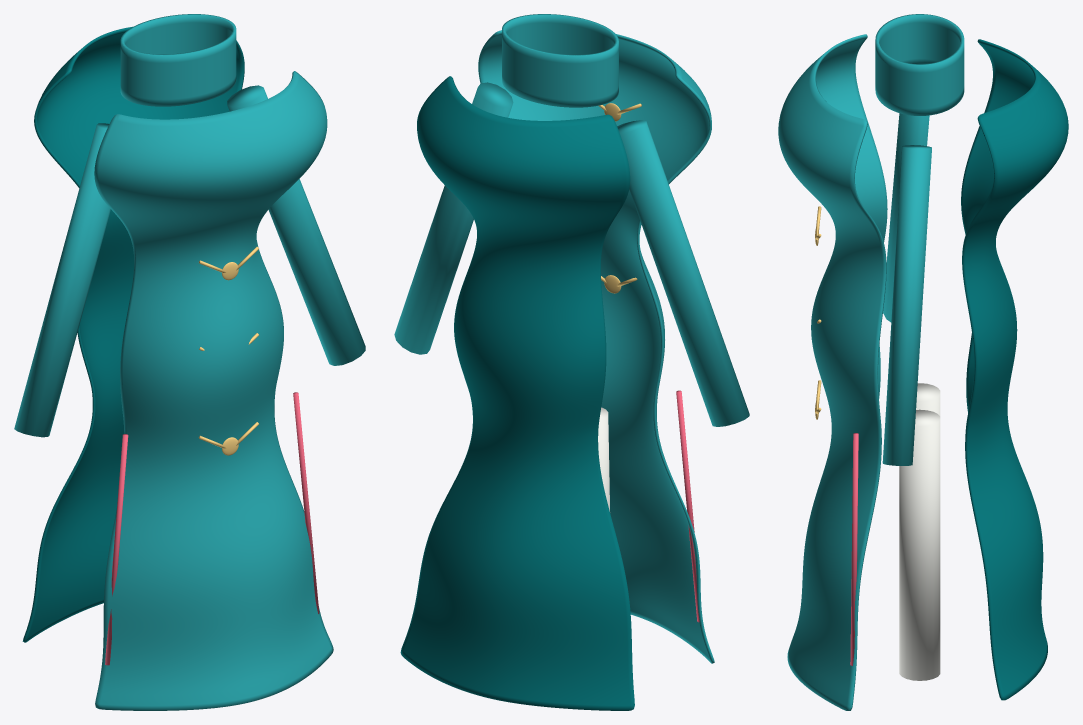
The model's file is BL_AODAI_001.glb.
3 views of the same model, side by side, from view 1: azimuth 30°, elevation 25°; view 2: azimuth 150°, elevation 25°; view 3: azimuth 270°, elevation 25° (orthographic).
Visible parts, largest first — view 1: front ao dai panel, back ao dai panel, silk sleeve, structured high collar, silk sleeve.001, side slit piping, side slit piping.002; view 2: back ao dai panel, front ao dai panel, silk sleeve, structured high collar, silk sleeve.001, side slit piping, ivory trouser leg; view 3: front ao dai panel, back ao dai panel, ivory trouser leg.001, silk sleeve.001, structured high collar, silk sleeve, side slit piping.002, ivory trouser leg.
Part boxes in pixels (x1,y1,x2,y2): front ao dai panel: (94,71,333,710); back ao dai panel: (22,26,244,642); silk sleeve: (14,123,110,437); structured high collar: (120,14,236,106); silk sleeve.001: (227,85,365,365); side slit piping: (105,434,128,665); side slit piping.002: (293,392,319,613); back ao dai panel: (400,76,634,710); front ao dai panel: (478,30,714,663); silk sleeve: (617,120,749,426); structured high collar: (502,14,618,107); silk sleeve.001: (394,82,513,354); side slit piping: (676,390,699,622); ivory trouser leg: (598,407,610,512); front ao dai panel: (778,34,887,710); back ao dai panel: (961,39,1068,700); ivory trouser leg.001: (899,409,940,680); silk sleeve.001: (882,145,931,465); structured high collar: (875,14,964,115); silk sleeve: (883,113,929,322); side slit piping.002: (850,433,858,665); ivory trouser leg: (916,383,940,415).
Bounding box in the file's own units: 1.44 × 2.45 × 1.04.
